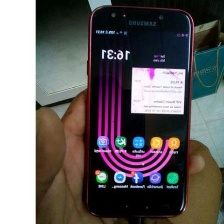phone: (76, 1, 197, 223)
